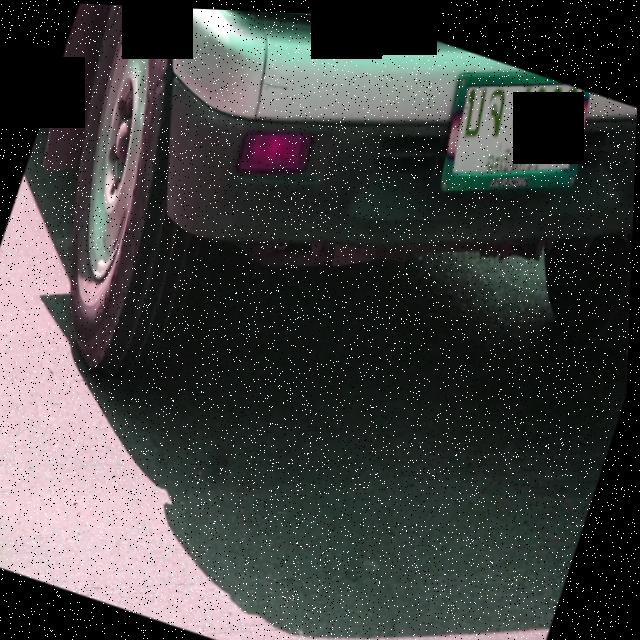text: (454, 82, 583, 168)
